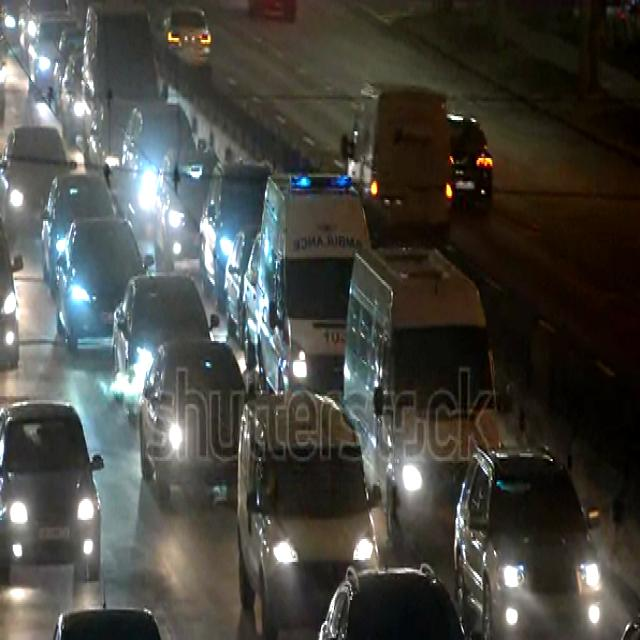ambulance: (258, 170, 374, 412)
